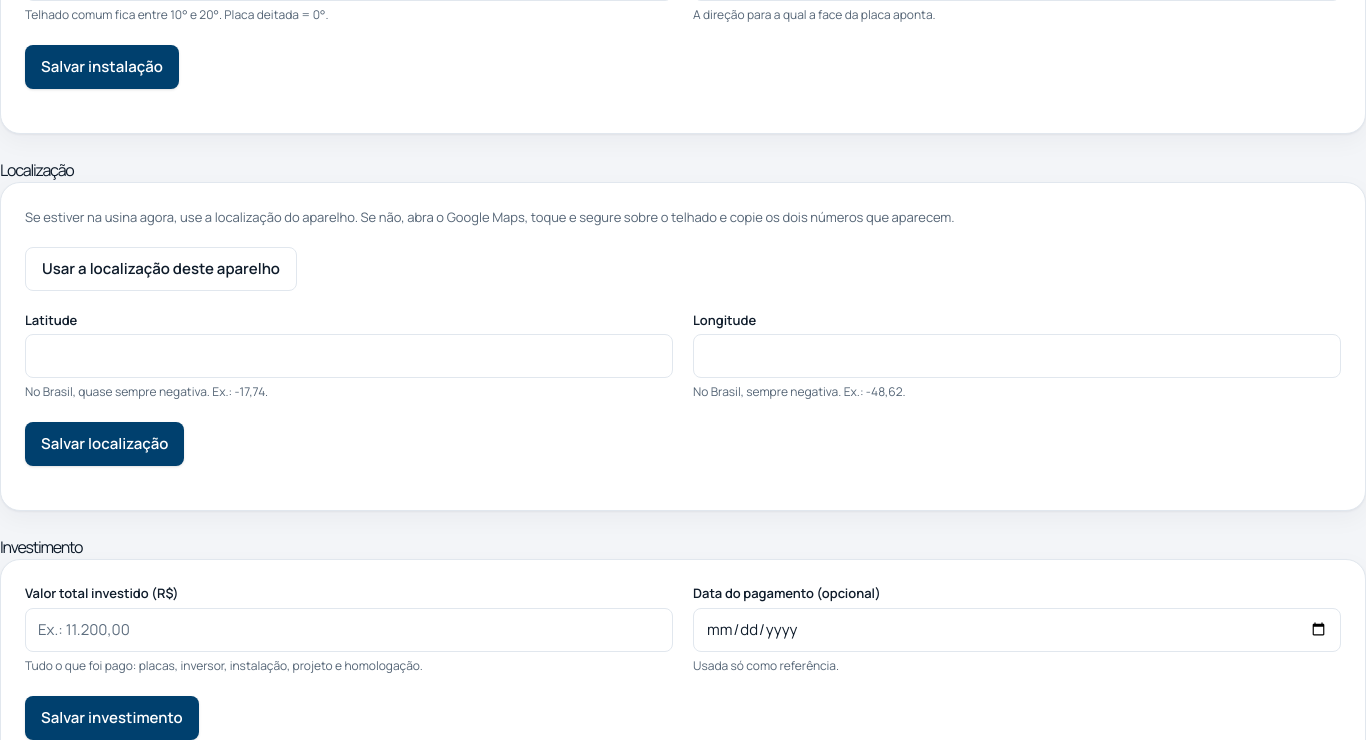
it: PlantSetupPage — o cliente informa os dados da usina › perfil sem permissão recebe mensagem clara
(page scrolled)
Type "-17,74" into the field labelled "Latitude".
click(349, 356); type("-17,74")  # box [25,334,673,378]
(page scrolled)
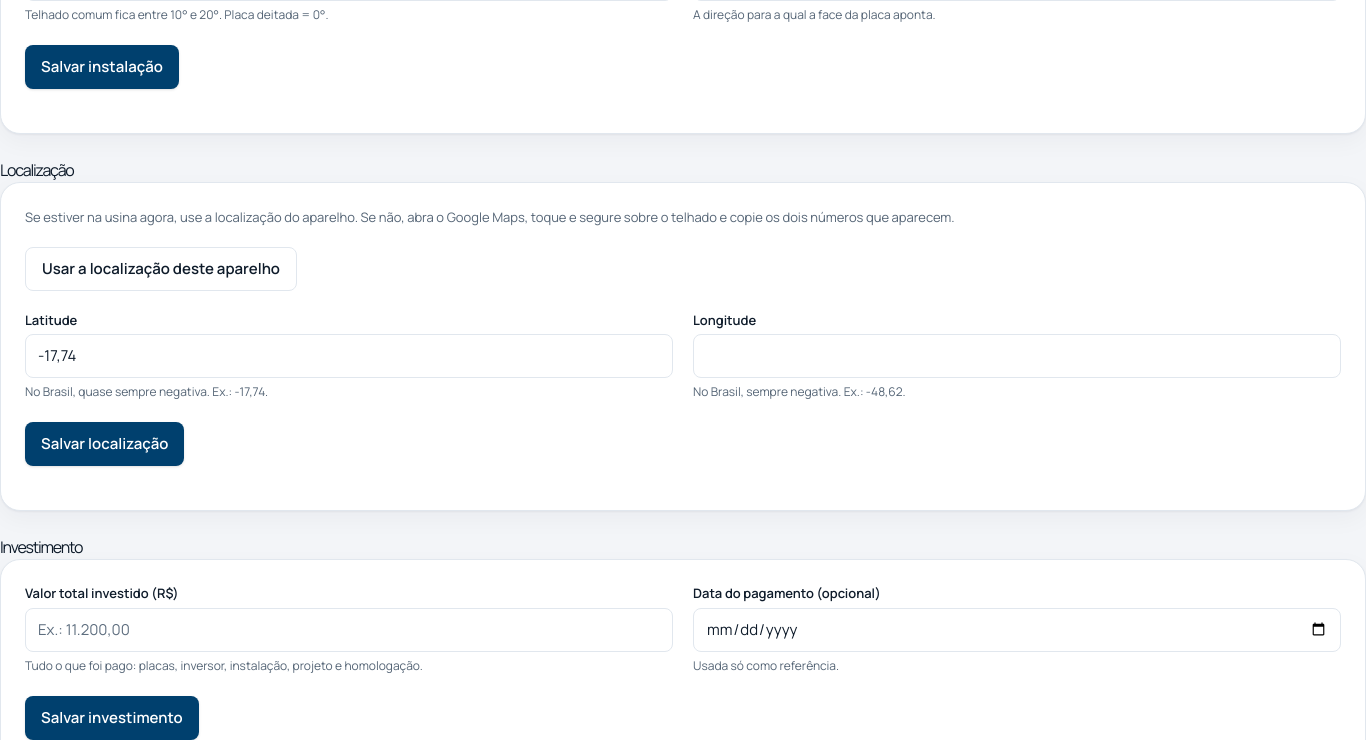
Type "-48,62" into the field labelled "Longitude".
click(1017, 356); type("-48,62")  # box [693,334,1341,378]
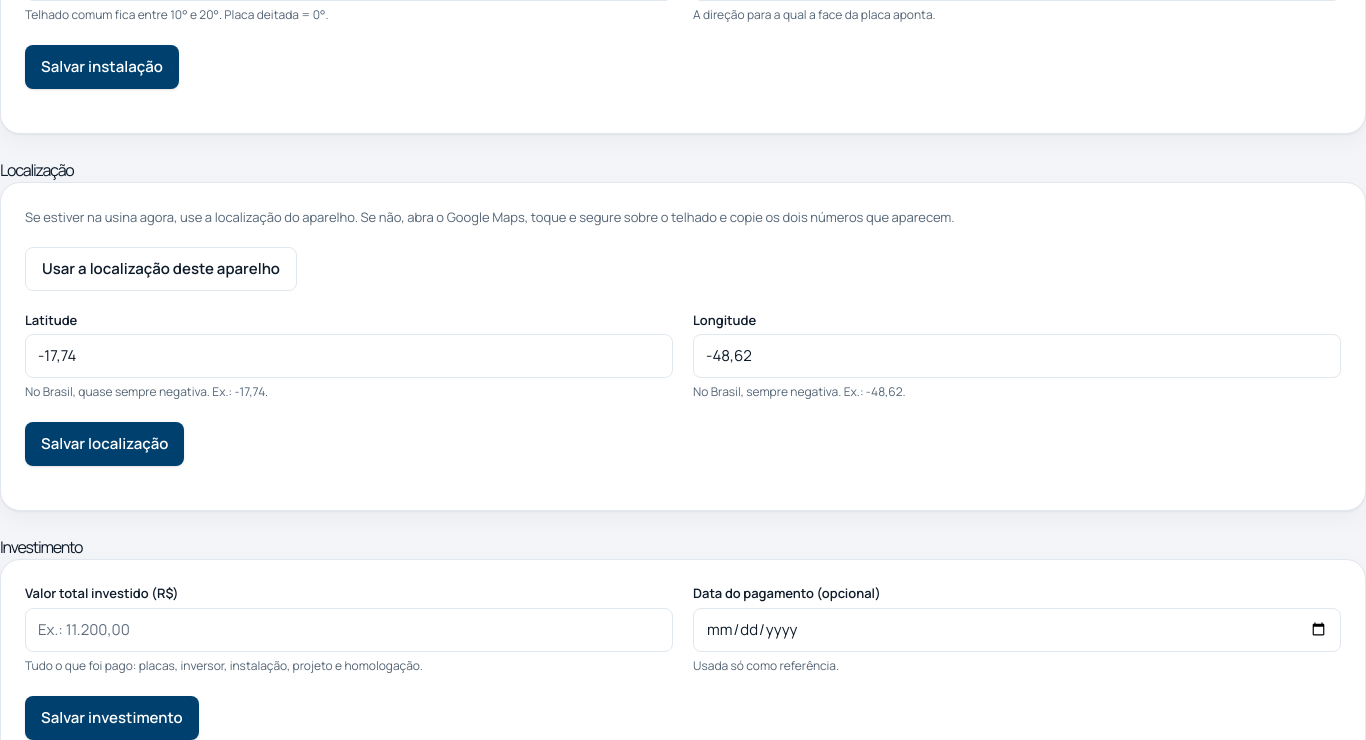
Click the button "Salvar localização".
click(105, 444)  # box [25,422,184,466]
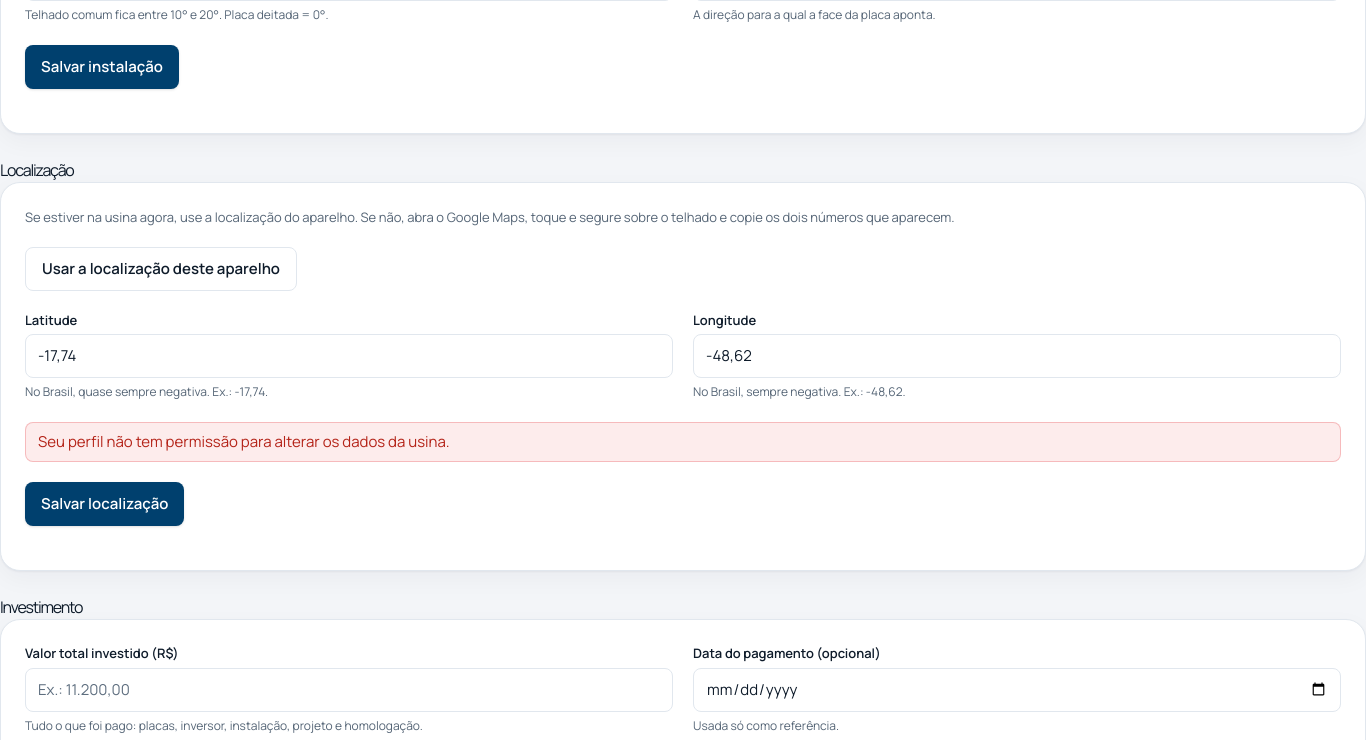
Check: the message shows "não tem permissão", box [38,431,450,452]
